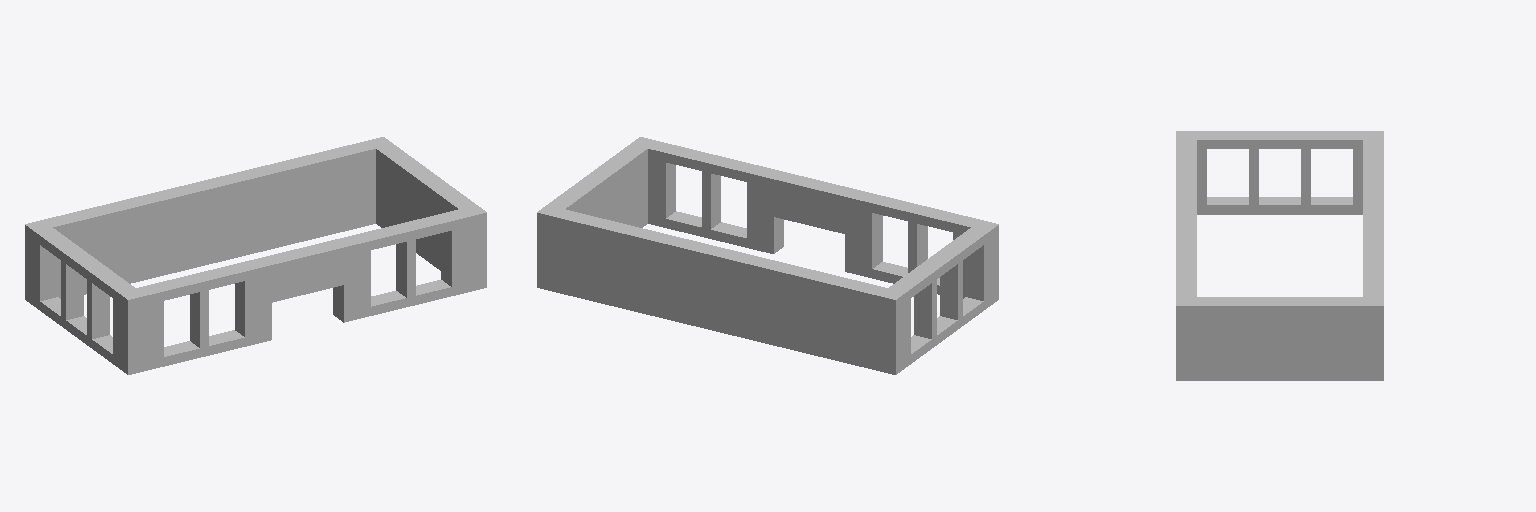
The model's file is rothenburg_10_5_upper_style01.obj.
3 views of the same model, side by side, from view 1: azimuth 30°, elevation 25°; view 2: azimuth 150°, elevation 25°; view 3: azimuth 270°, elevation 25° (orthographic).
Parts seen in each view (by area): view 1: rothenburg_upper_YNG_XNG; view 2: rothenburg_upper_YNG_XNG; view 3: rothenburg_upper_YNG_XNG.
Boxes of the visible parts, <box> form: rothenburg_upper_YNG_XNG: <box>25,137,486,374</box>; rothenburg_upper_YNG_XNG: <box>537,137,998,374</box>; rothenburg_upper_YNG_XNG: <box>1176,131,1383,380</box>.
Size of the model in its own units: 10 by 2 by 5.